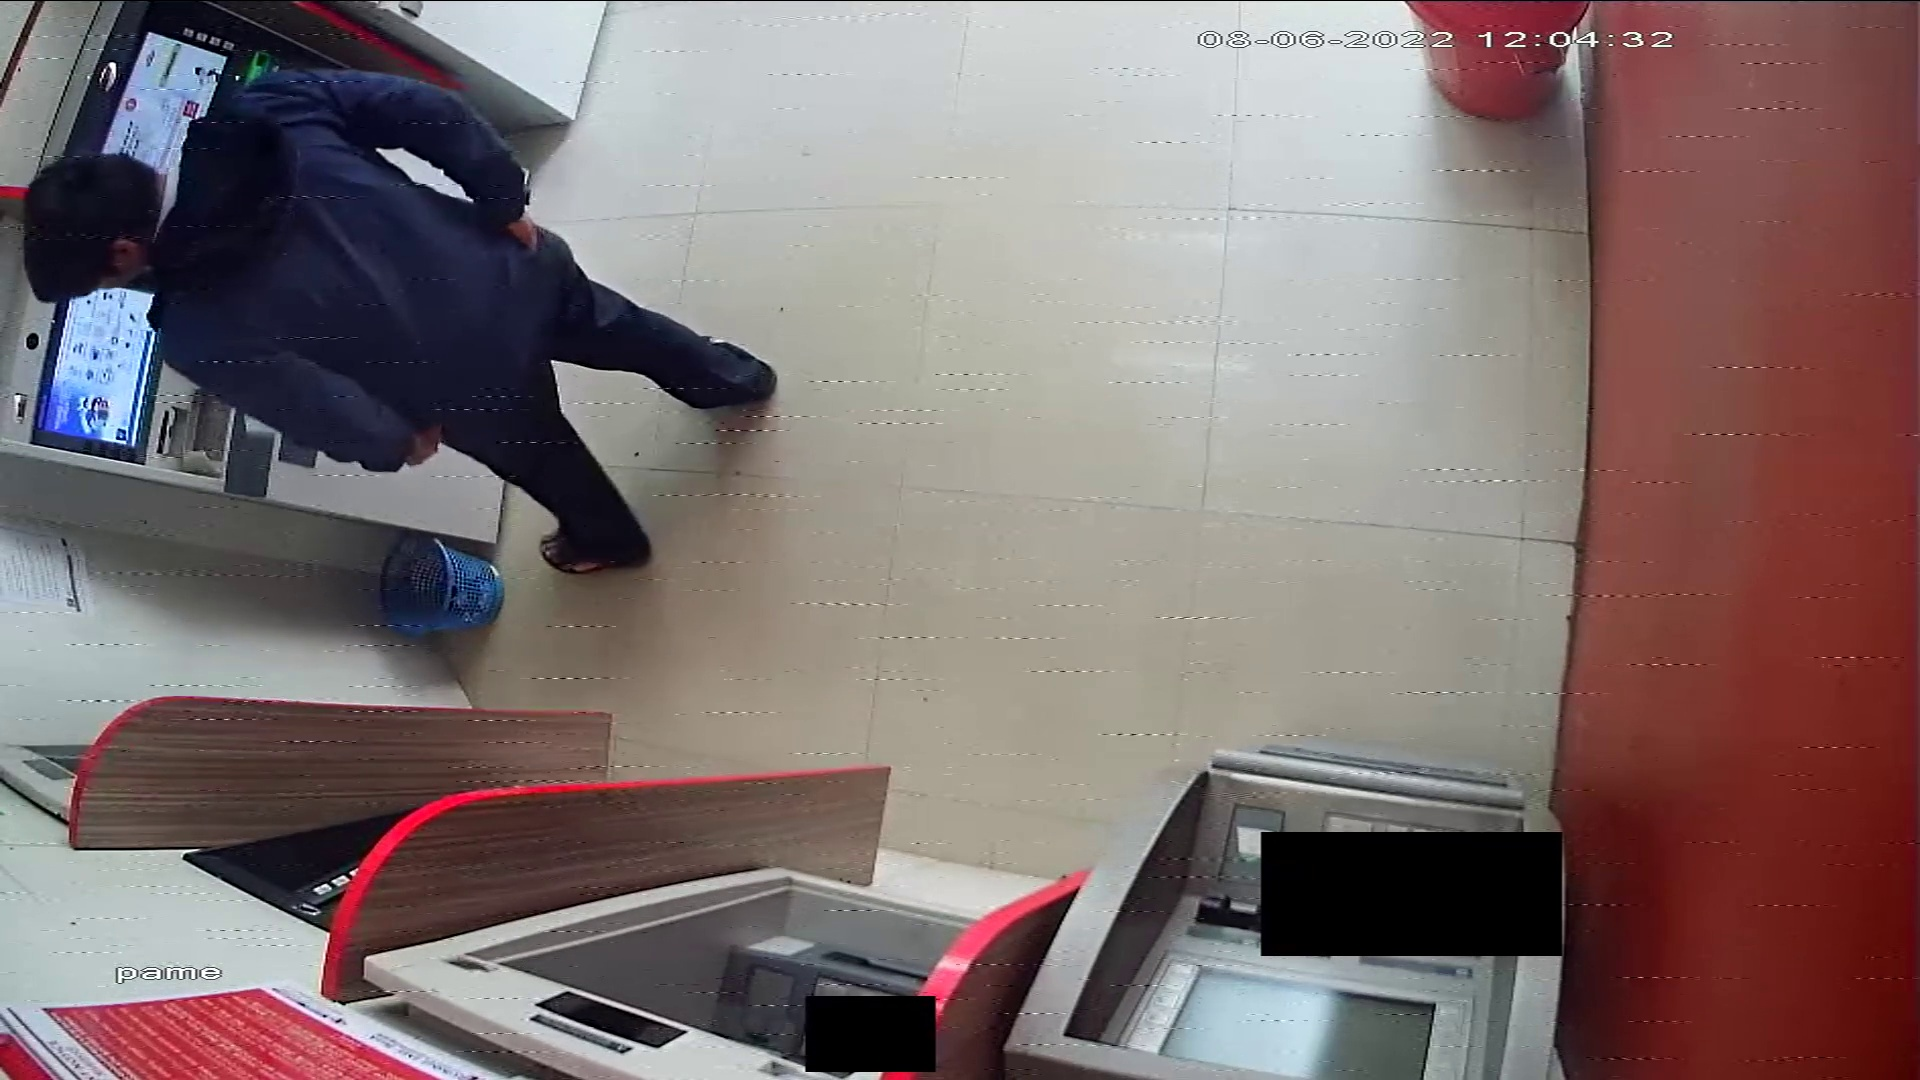person: (23, 65, 775, 577)
